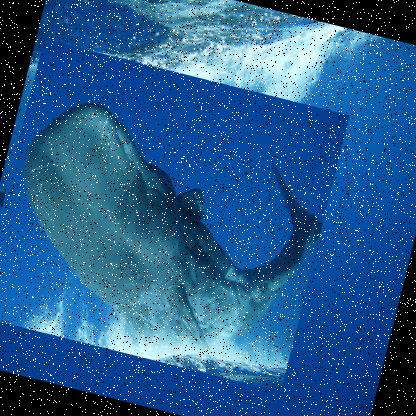sperm_whale: (0, 39, 351, 394)
